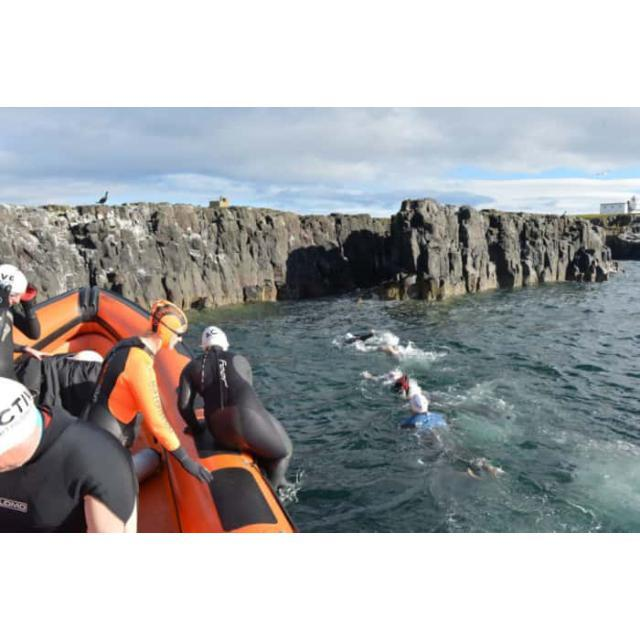human: (399, 393, 448, 435)
